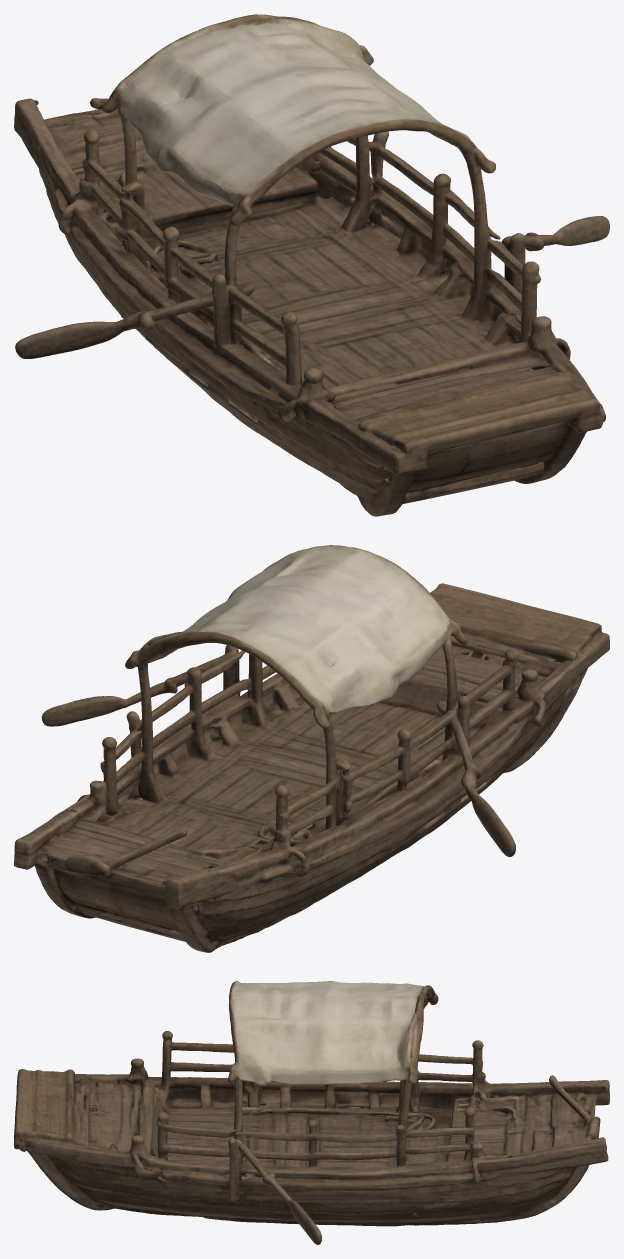
File: ferry-boat.glb
The picture shows the model from 3 angles, top to bottom: view 1: azimuth 30°, elevation 25°; view 2: azimuth 150°, elevation 25°; view 3: azimuth 270°, elevation 25°; orthographic projection. The views are drawn at different scales.
Visible parts, largest first — view 1: world; view 2: world; view 3: world.
Part boxes in pixels (x1,y1,x2,y2): world: [14, 14, 609, 516]; world: [14, 545, 609, 952]; world: [14, 981, 609, 1244].
Bounding box in the file's own units: 0.45 × 0.23 × 0.6078.
Materials: 1 (1 with a texture image).
